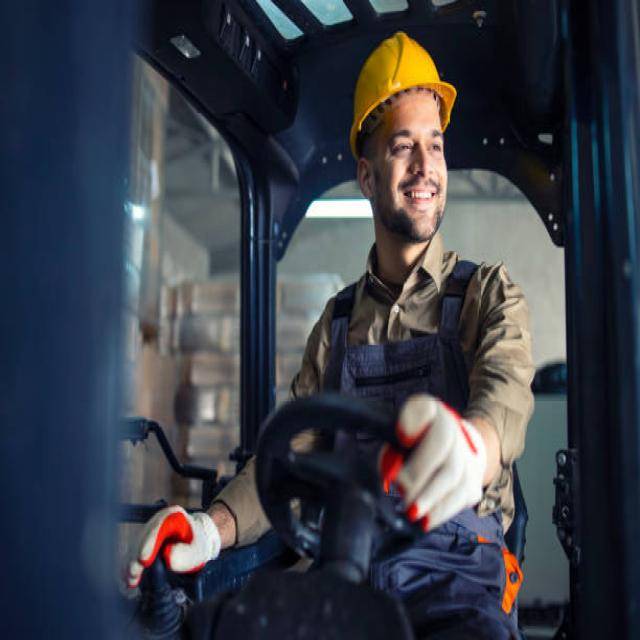Gloves: (380, 388, 493, 544), (123, 495, 235, 600)
helmet: (349, 29, 457, 162)
person: (120, 25, 534, 640)
